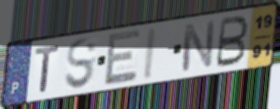B: (213, 14, 250, 69)
E: (103, 28, 142, 88)
I: (140, 26, 159, 82)
N: (180, 19, 217, 74)
S: (63, 36, 99, 92)
T: (34, 43, 62, 94)
